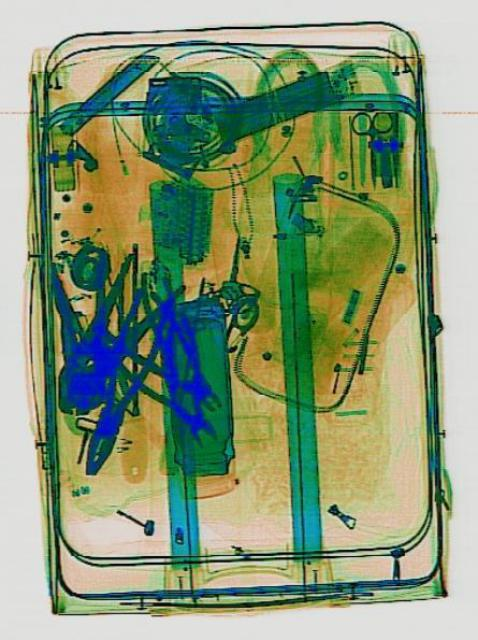Pliers: (34, 234, 185, 434), (66, 279, 175, 486), (114, 306, 240, 470), (123, 301, 234, 433)
